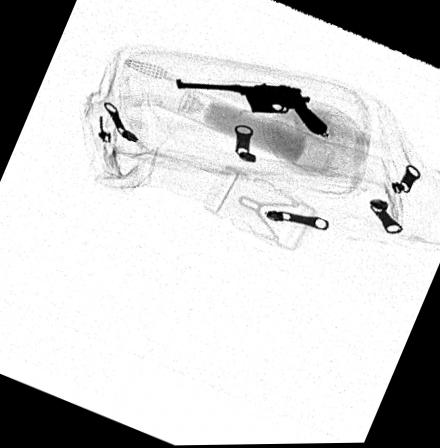Gun: (174, 77, 331, 135)
